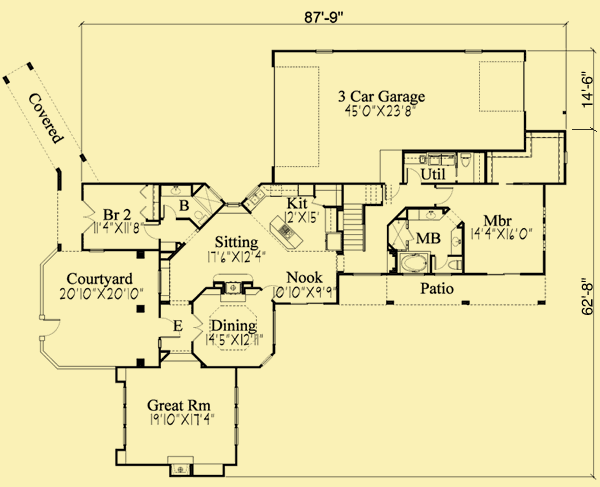kitchen has a kitche bar, twin sink: (243, 184, 343, 257)
laundry room has washer and dryer: (400, 148, 459, 186)
master bedroom has a shower, small sinks and large sink: (158, 183, 226, 231)
master bedroom has a tub, dual sinks and large sink: (387, 205, 465, 277)
